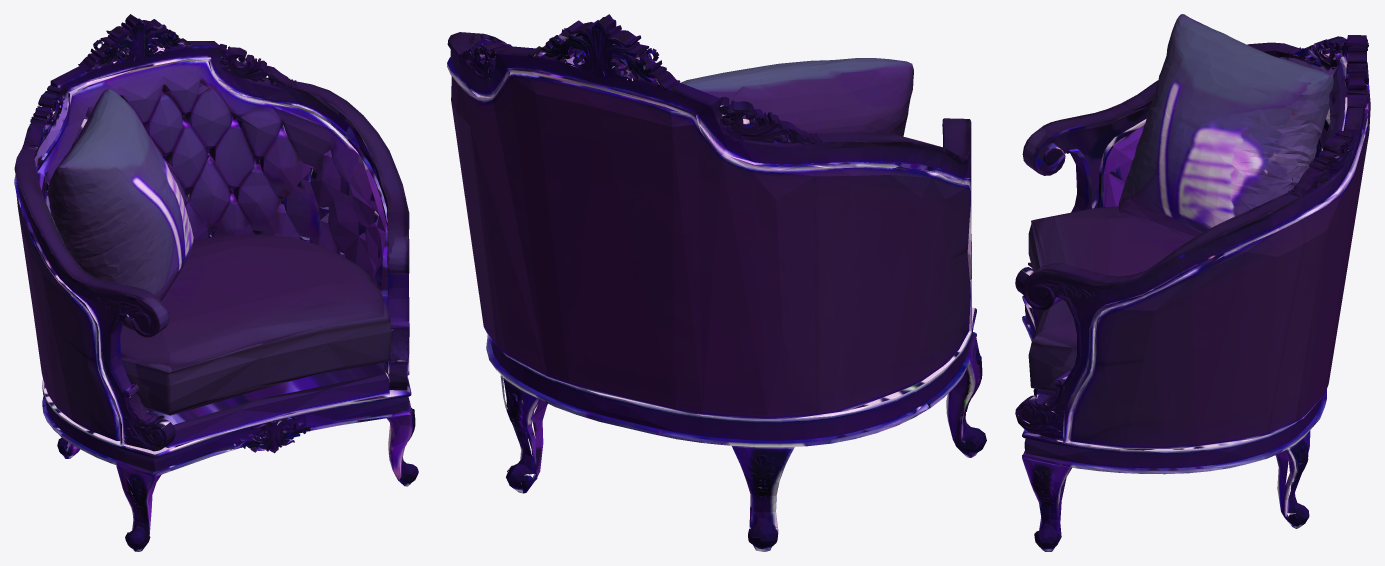
Rendered from edited_mesh.glb.
3 views of the same model, side by side, from view 1: azimuth 30°, elevation 25°; view 2: azimuth 150°, elevation 25°; view 3: azimuth 270°, elevation 25° (orthographic). The views are drawn at different scales.
Parts seen in each view (by area): view 1: solid_001_wire; view 2: solid_001_wire; view 3: solid_001_wire.
Part boxes in pixels (bbox=[...]): solid_001_wire: bbox=[14, 14, 418, 551]; solid_001_wire: bbox=[447, 14, 986, 551]; solid_001_wire: bbox=[1015, 14, 1370, 551].
Bounding box in the file's own units: 1.26 × 1.37 × 0.9974.
1 material, 1 textured.
